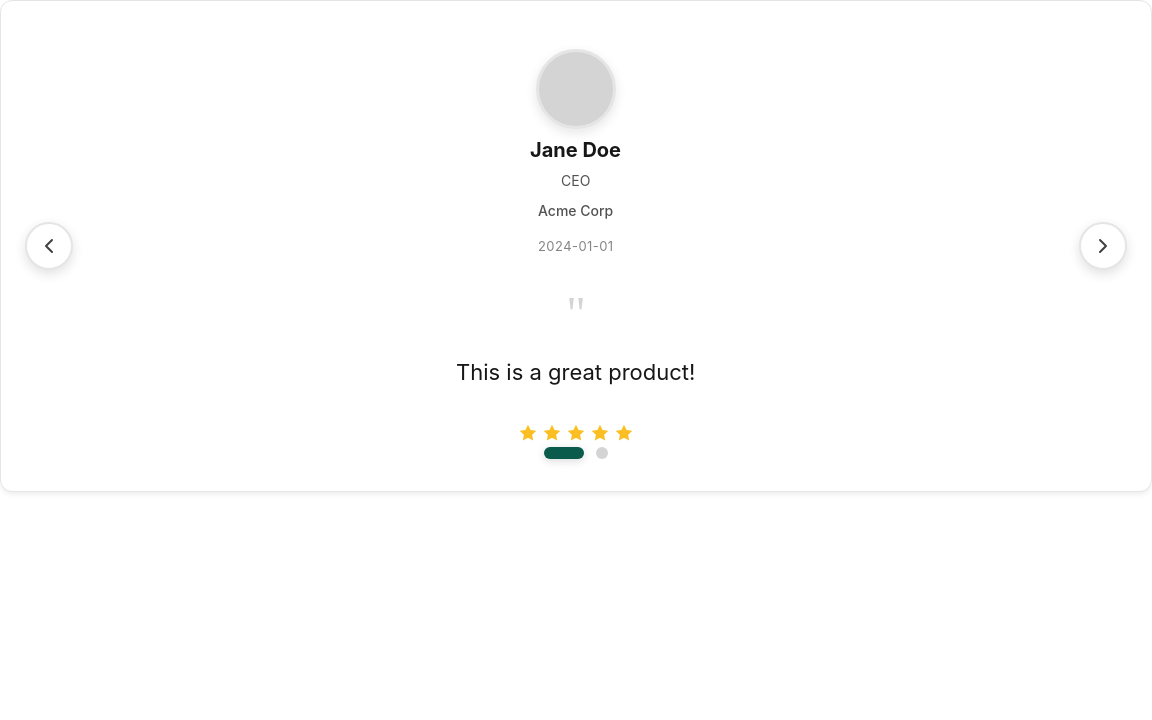
TestimonialWidget › Navigation › navigates via dots
Step 1. Click the button named "Go to testimonial" → [602, 453], box x1=596 y1=447 x2=608 y2=459
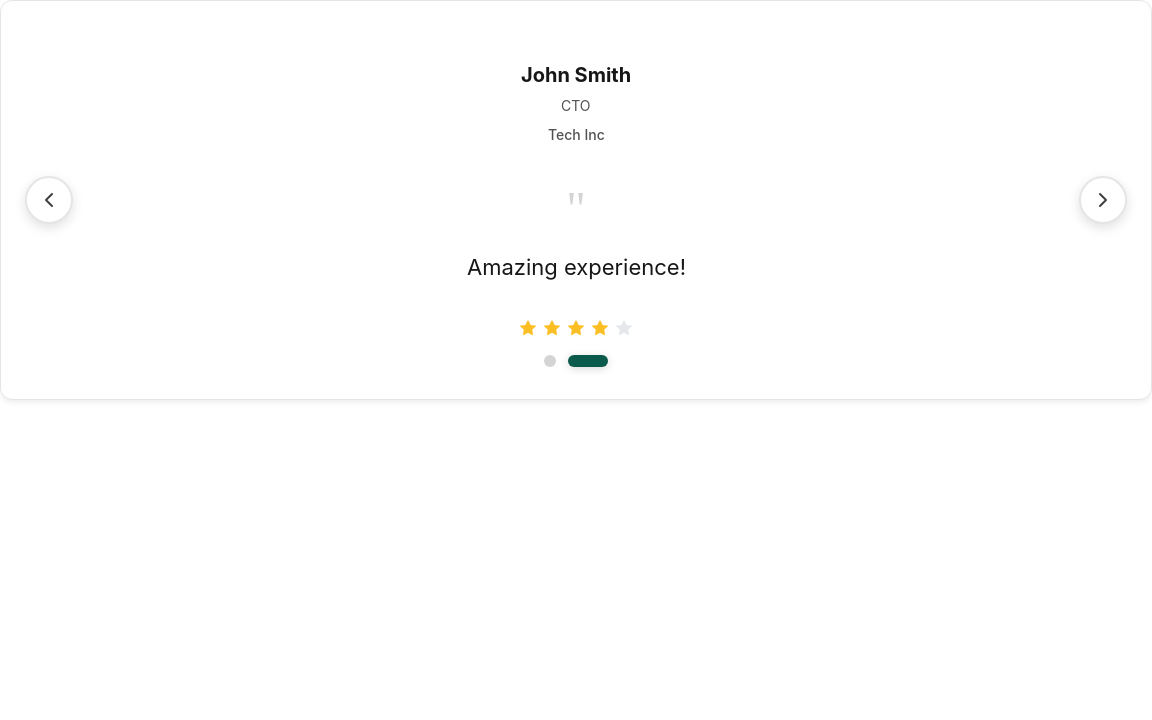
Expected: the text "Amazing experience!" is shown, x1=466 y1=249 x2=686 y2=286
